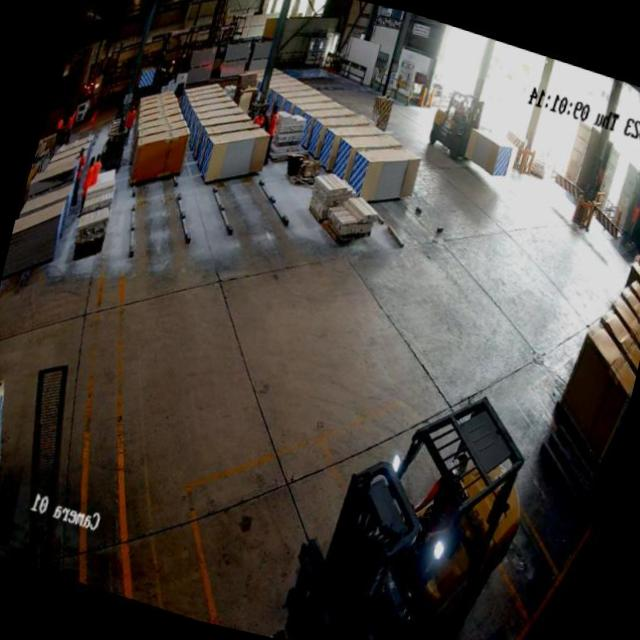driver: (409, 450, 477, 544)
forklift: (265, 340, 562, 640), (421, 81, 488, 164)
person: (76, 153, 97, 203), (264, 102, 282, 136), (87, 150, 104, 184), (122, 100, 138, 130), (72, 148, 86, 182), (626, 198, 640, 231), (252, 108, 266, 125)
